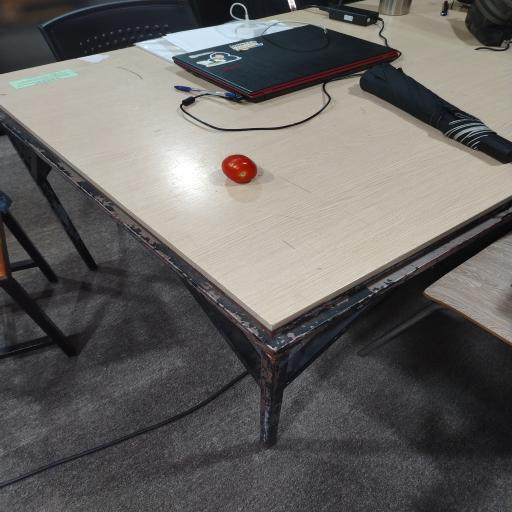spoiled: (222, 154, 257, 183)
